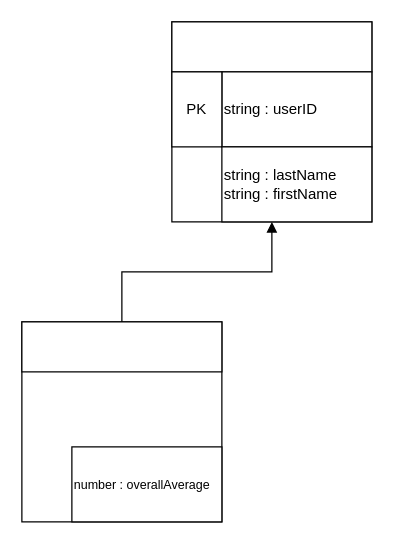
This 394x544 diagram has some shape labels left out. Here are the shapes that lost their labels. From the top down, the centre of each, then its label:
[271,46]: Person
[121,346]: Student
